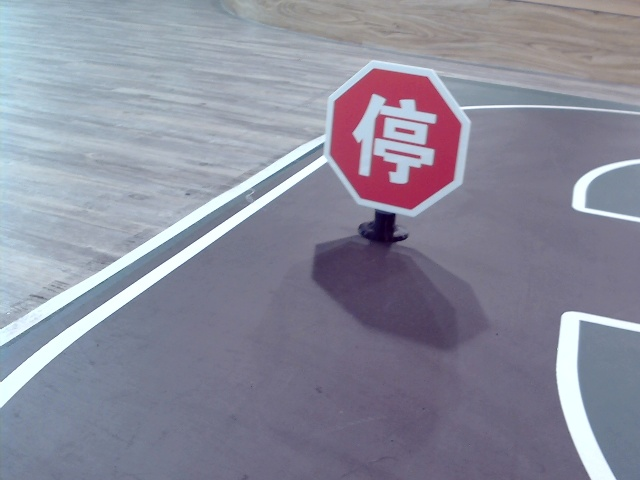stop: (357, 87, 434, 183)
